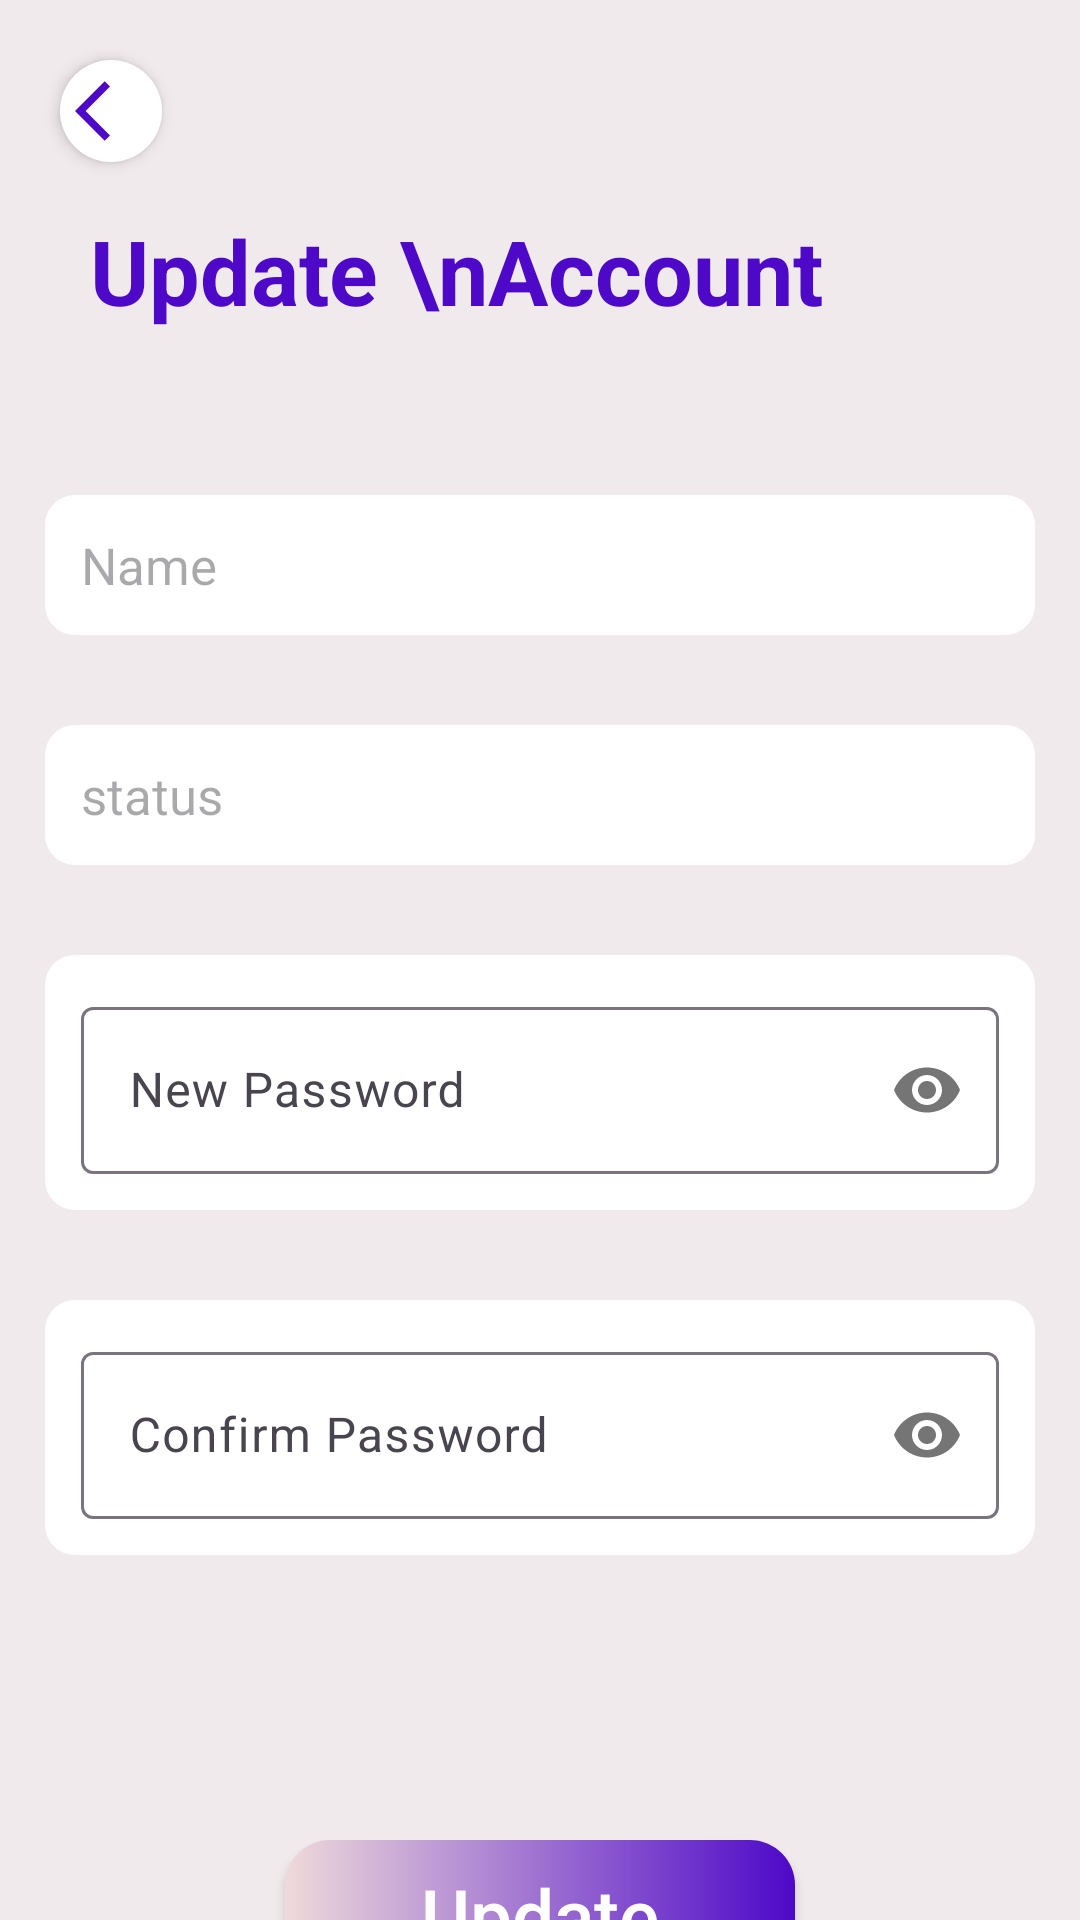

Icon click points for this 1080 × 1920 phone screenshot, format (x,y):
back: (111,111)
